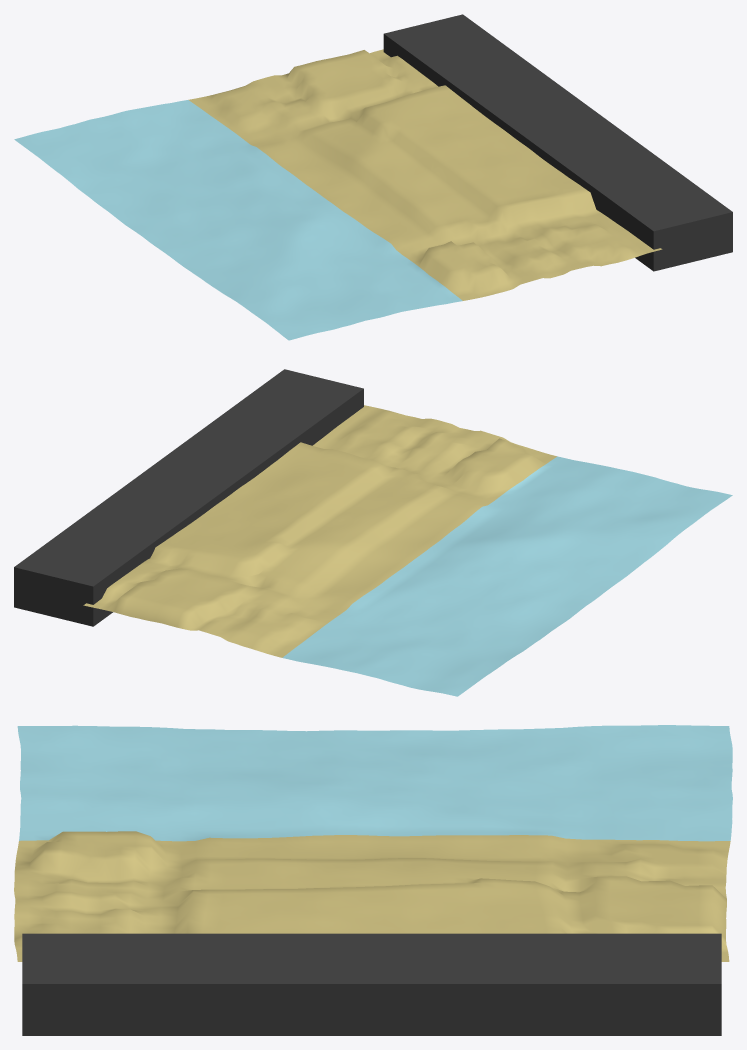
The model's file is areiagua.fbx.
3 renders of one model, top to bottom at view 1: azimuth 30°, elevation 25°; view 2: azimuth 150°, elevation 25°; view 3: azimuth 270°, elevation 25°, orthographic. The views are drawn at different scales.
Parts seen in each view (by area): view 1: Cube.001, Cube; view 2: Cube.001, Cube; view 3: Cube.001, Cube.
Boxes of the visible parts, bbox=[...] form: Cube.001: bbox=[14, 49, 662, 340]; Cube: bbox=[383, 14, 732, 271]; Cube.001: bbox=[83, 405, 732, 696]; Cube: bbox=[14, 369, 363, 626]; Cube.001: bbox=[14, 725, 732, 961]; Cube: bbox=[22, 933, 721, 1035].
Size of the model in its own units: 3054 by 262 by 3288.
